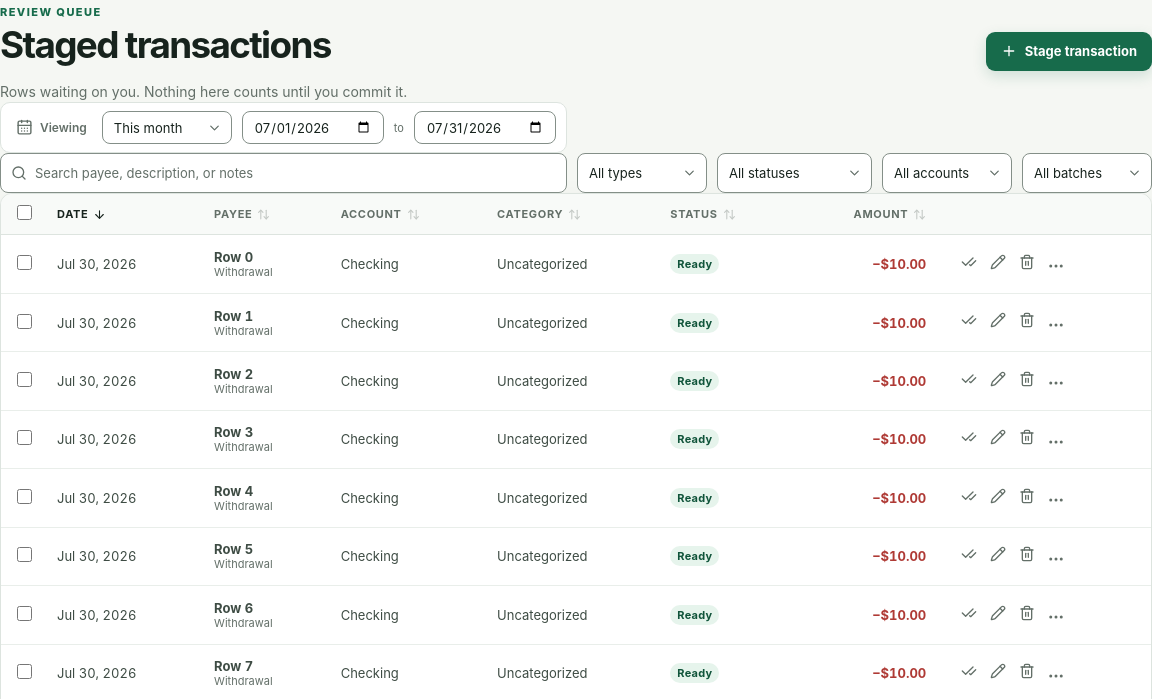
Test: committing a batch big enough to watch › draws nothing before the first frame
This screenshot has width=1152, height=699.
Click the checkbox named "Select all staged transactions on this page" at (24, 213), box [16,205,32,220]
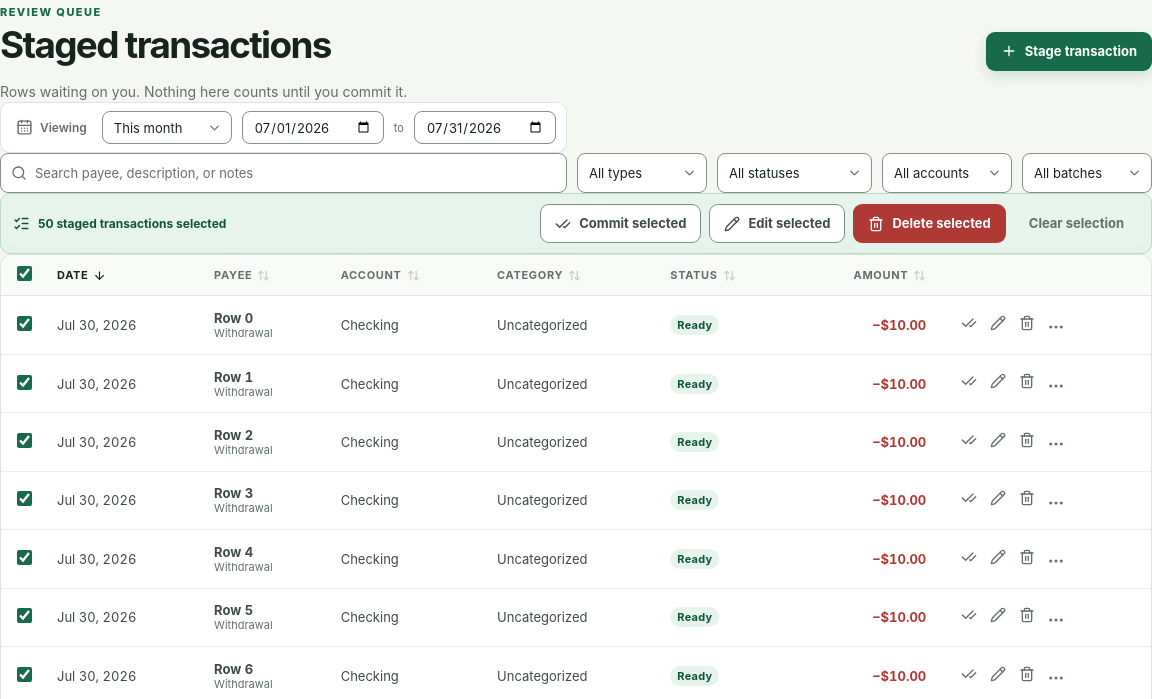
Click the button "Commit selected" at (621, 224), box [540,204,701,243]
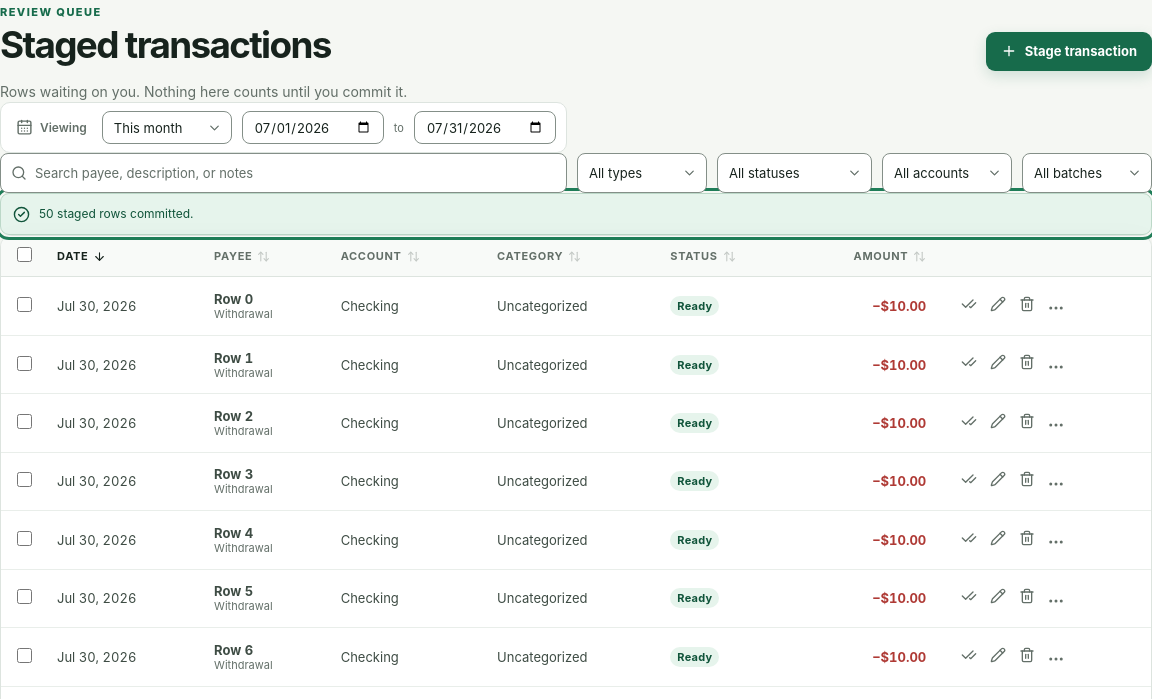
Check: the button "Commit selected" is gone
